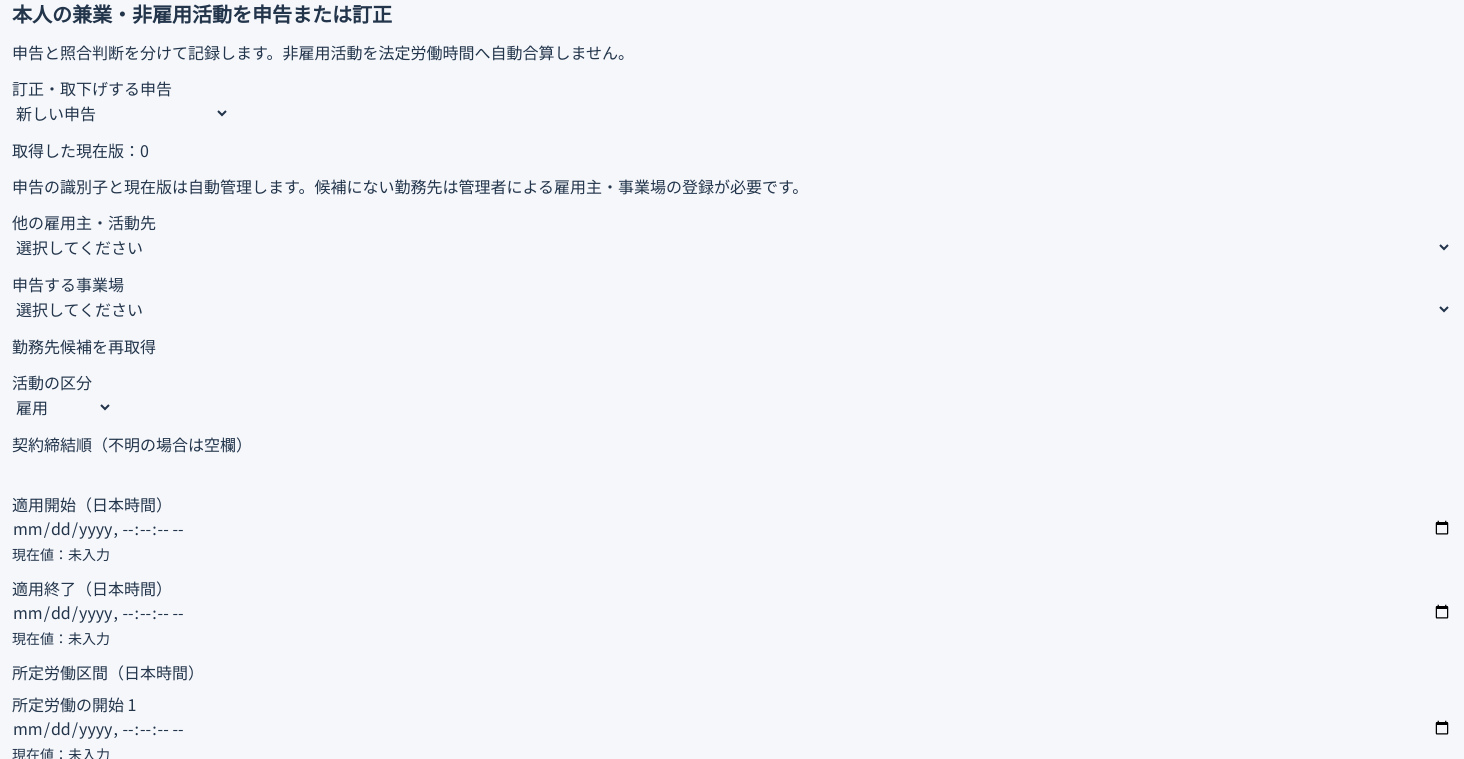
Test: administrator sees the declared hours, contract order and review basis before deciding
Select "self：d1（照合待ち・版1）" in the dropdown labelled "訂正・取下げする申告" at x=121, y=113, box [12,100,230,126]
(page scrolled)
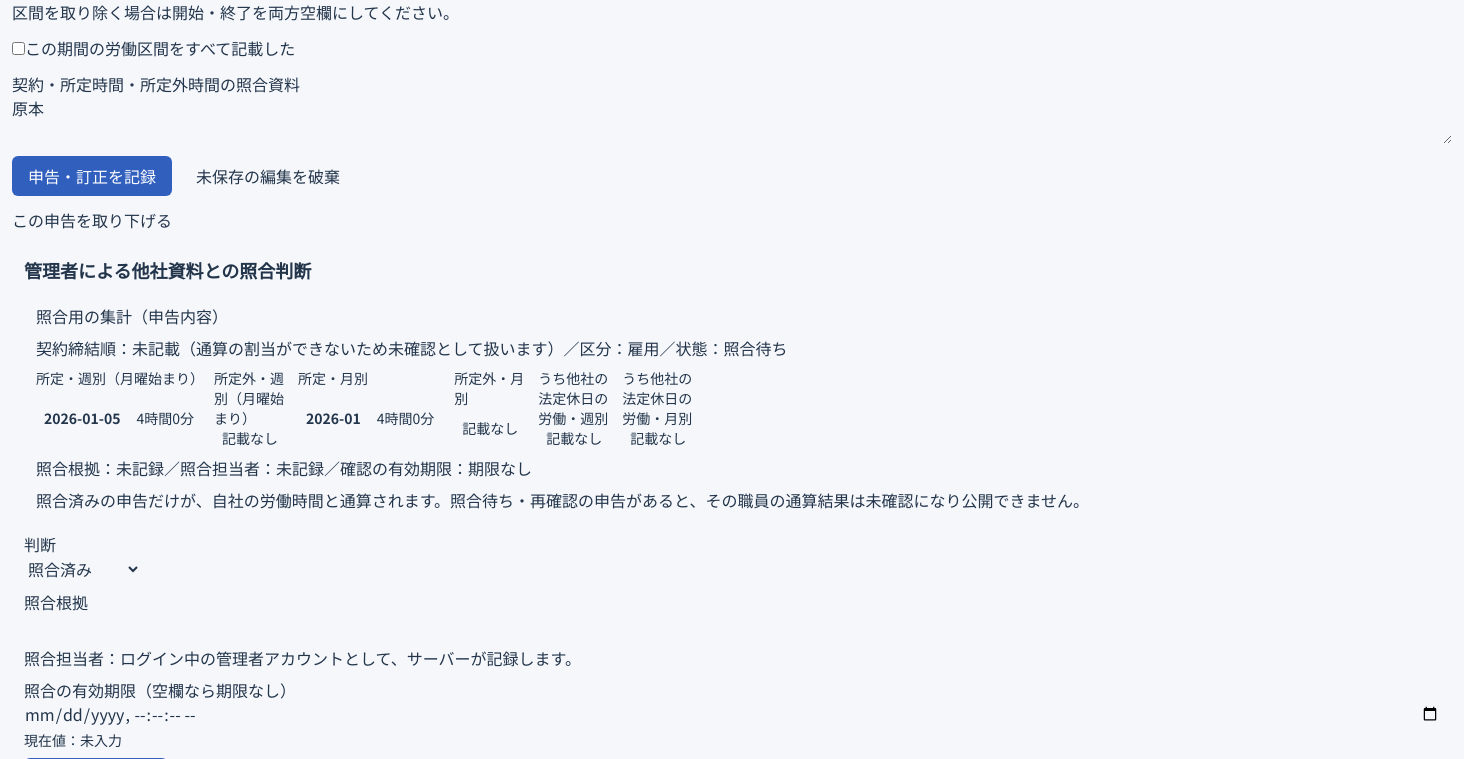
Check: the element named "他社勤務の照合用集計" shows "契約締結順：未記載", box [36,304,1089,512]
Check: the element named "他社勤務の照合用集計" shows "2026-01-05", box [44,408,120,428]
Check: the element named "他社勤務の照合用集計" shows "4時間0分", box [136,408,194,428]
